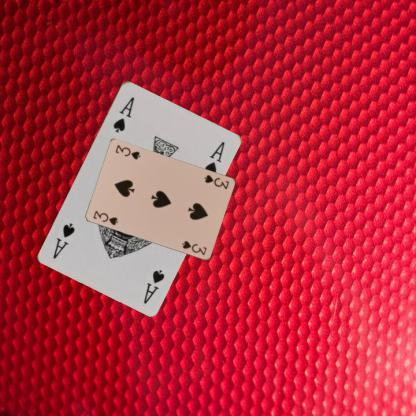3s: (202, 172, 231, 190), (90, 208, 119, 226)
As: (110, 93, 136, 134), (140, 266, 166, 305)
